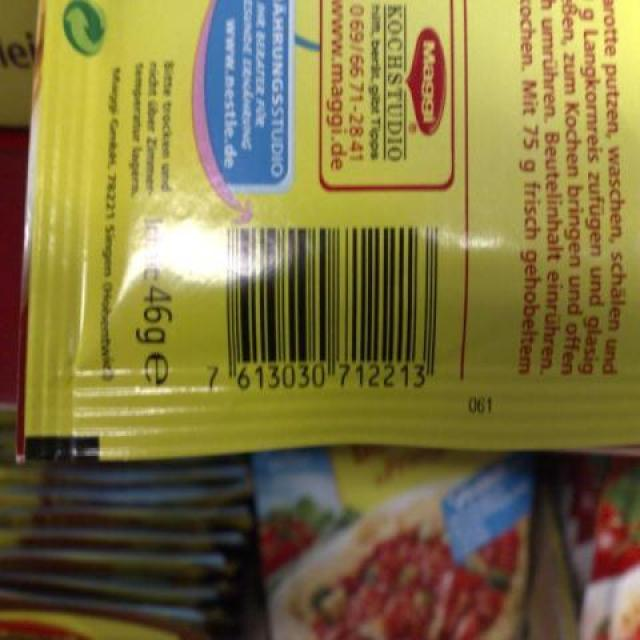Barcode: (201, 217, 452, 404)
